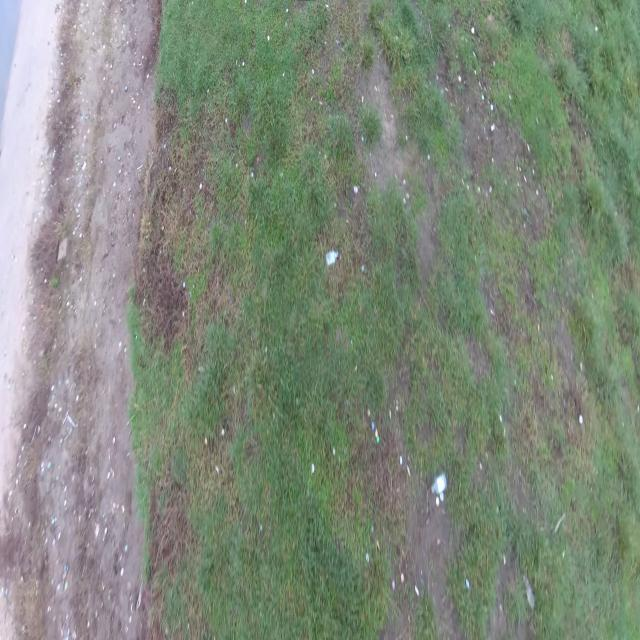rubbish: (431, 471, 448, 495), (325, 251, 341, 266)
